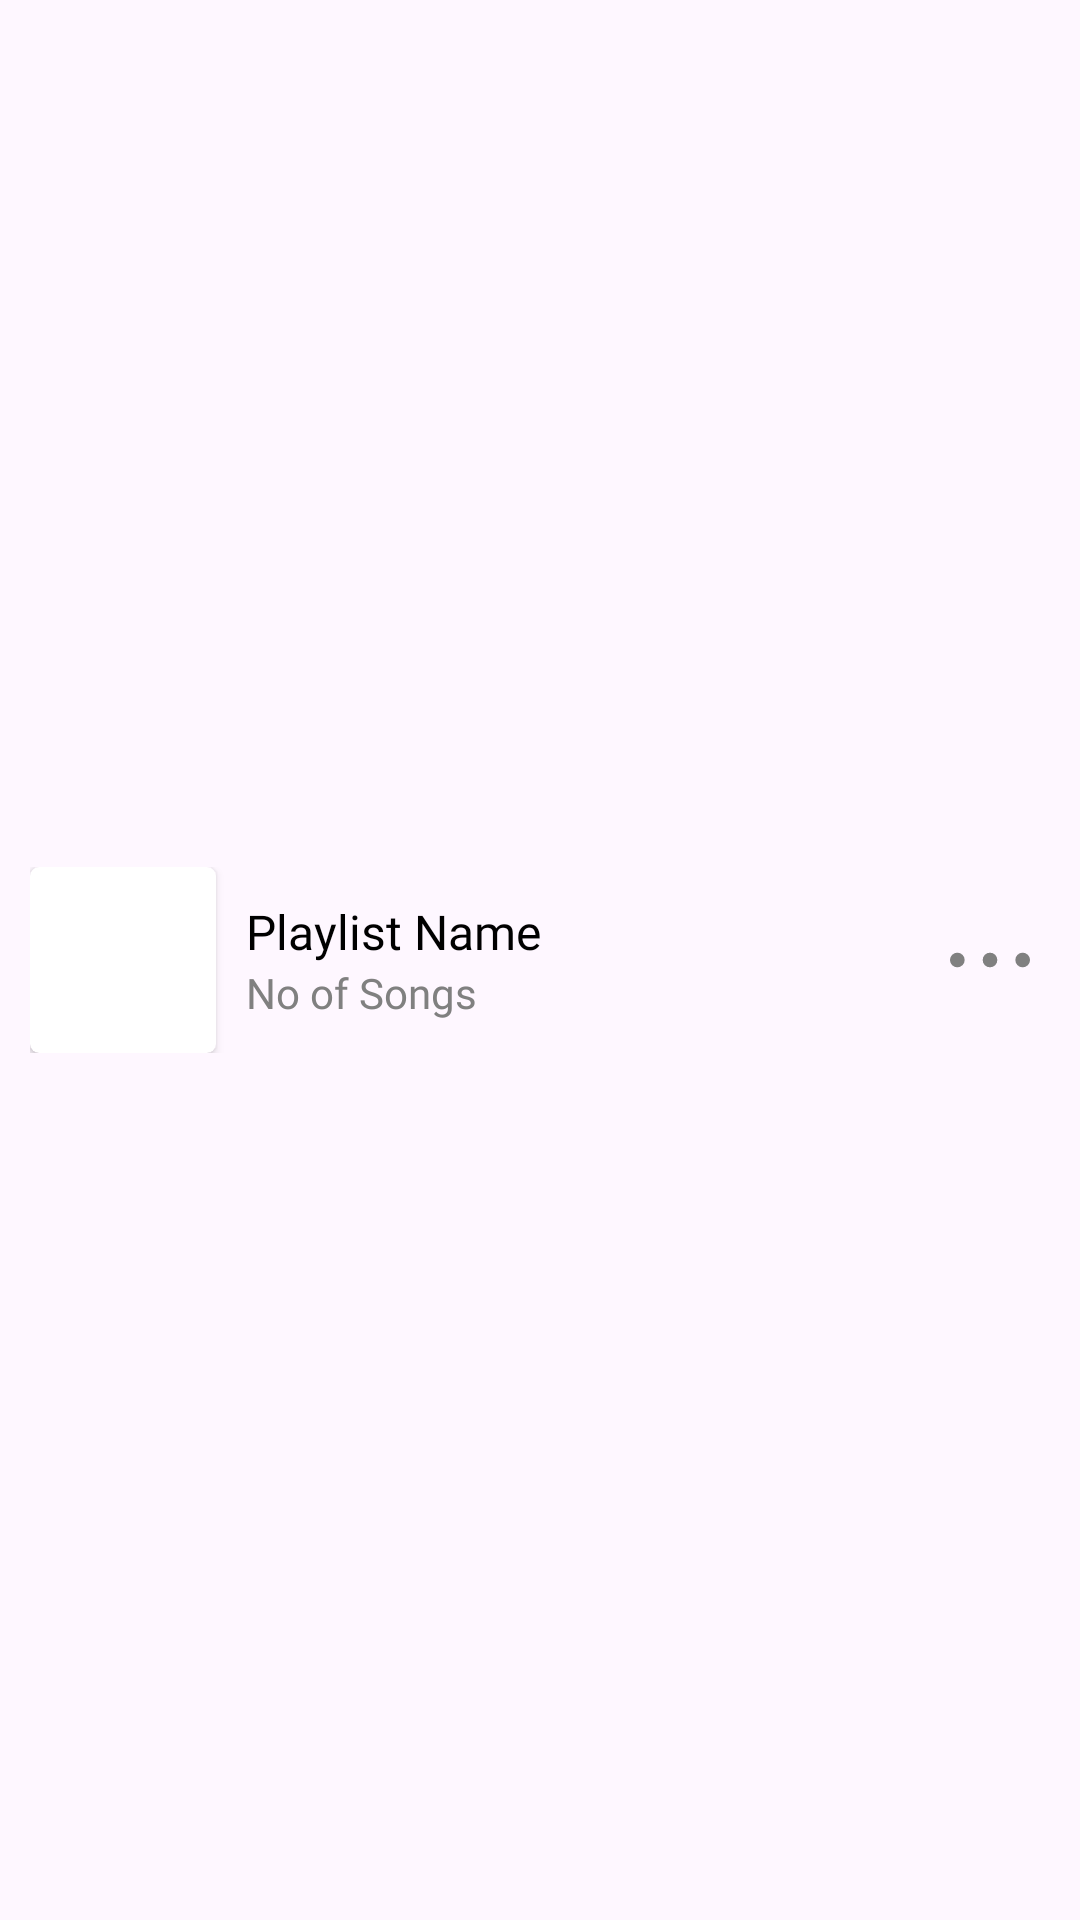

Icon bounding boxes for this 1080x1920 phone screenshot, format (x1, y1, x2, y2):
more horiz: (950, 952, 1030, 968)
